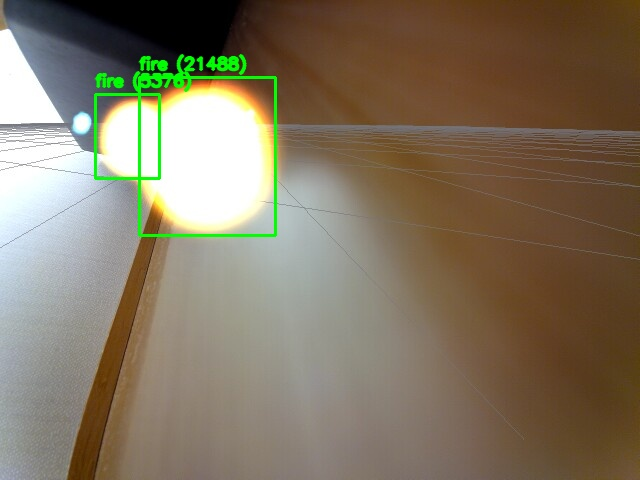fire: (139, 77, 275, 235), (95, 94, 159, 178)
